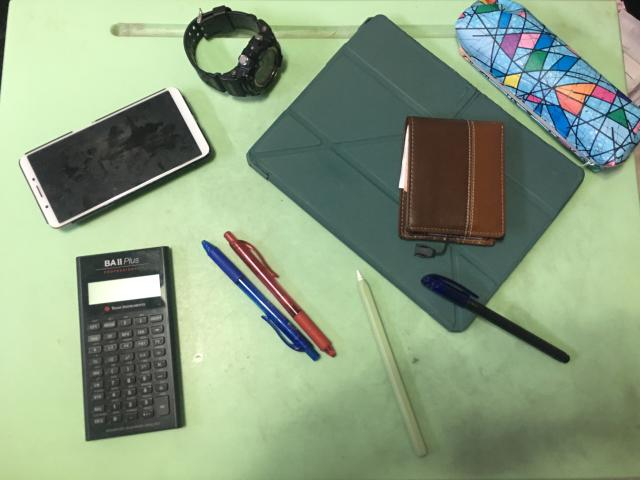Mobile phone: (18, 88, 216, 231)
Pen: (201, 233, 336, 362), (422, 275, 573, 366)
Wallet: (398, 117, 507, 246)
Watch: (183, 9, 287, 101)
